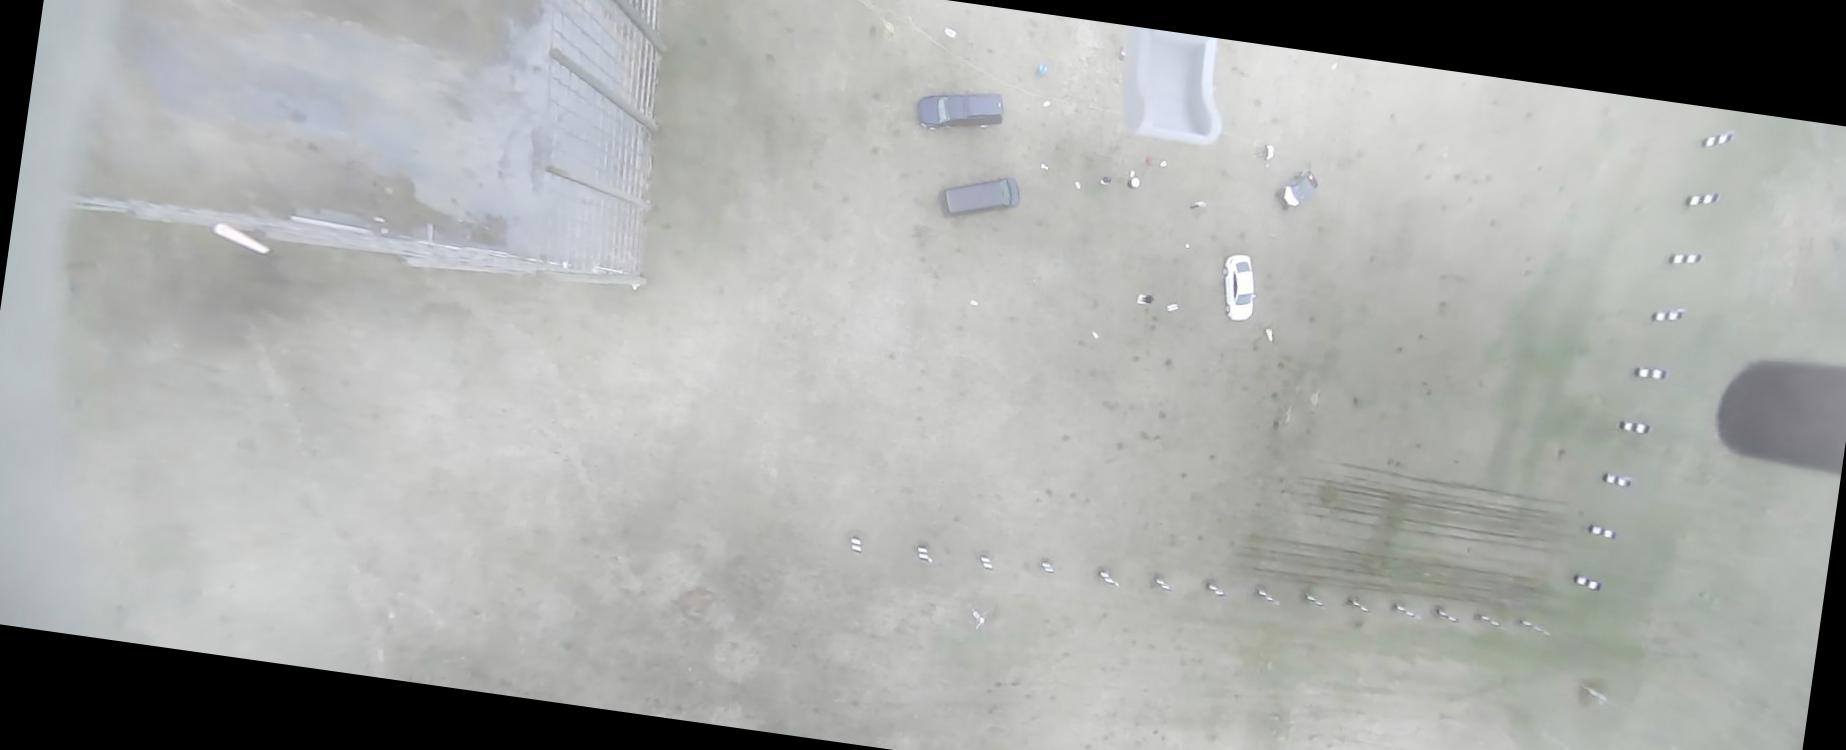vehicle: (912, 82, 1006, 140), (941, 166, 1024, 225), (1216, 251, 1262, 323), (1272, 165, 1322, 216)
